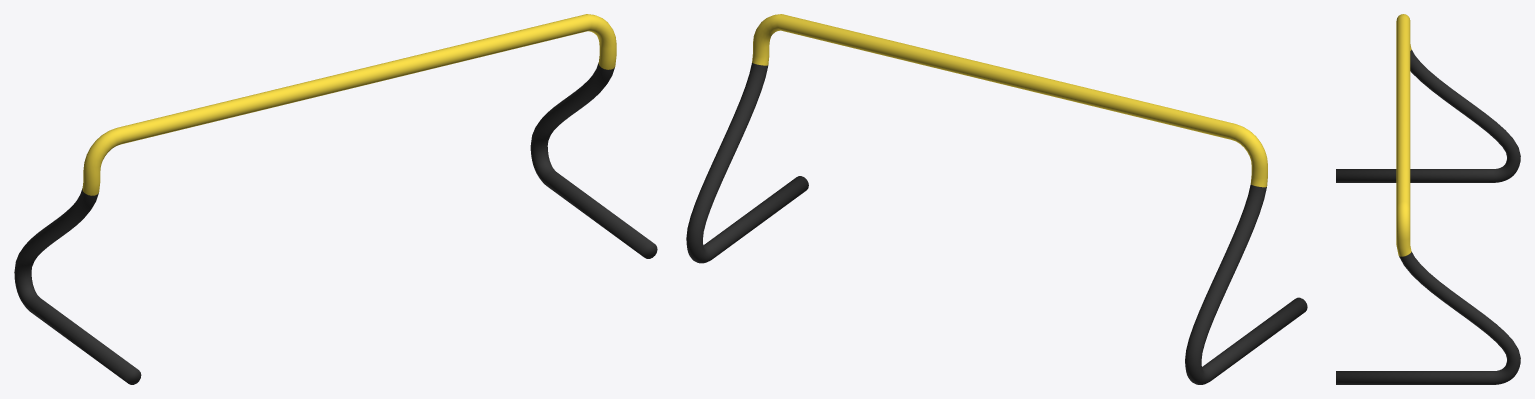
The model's file is hardle_low.glb.
3 views of the same model, side by side, from view 1: azimuth 30°, elevation 25°; view 2: azimuth 150°, elevation 25°; view 3: azimuth 270°, elevation 25° (orthographic). The views are drawn at different scales.
Visible parts, largest first — view 1: SpeedHurdle_low; view 2: SpeedHurdle_low; view 3: SpeedHurdle_low.
Boxes of the visible parts, left/top/right/bottom form: SpeedHurdle_low: left=14, top=14, right=657, bottom=384; SpeedHurdle_low: left=686, top=14, right=1307, bottom=384; SpeedHurdle_low: left=1336, top=14, right=1520, bottom=384.
Bounding box in the file's own units: 1.5 × 0.5917 × 0.5632.
